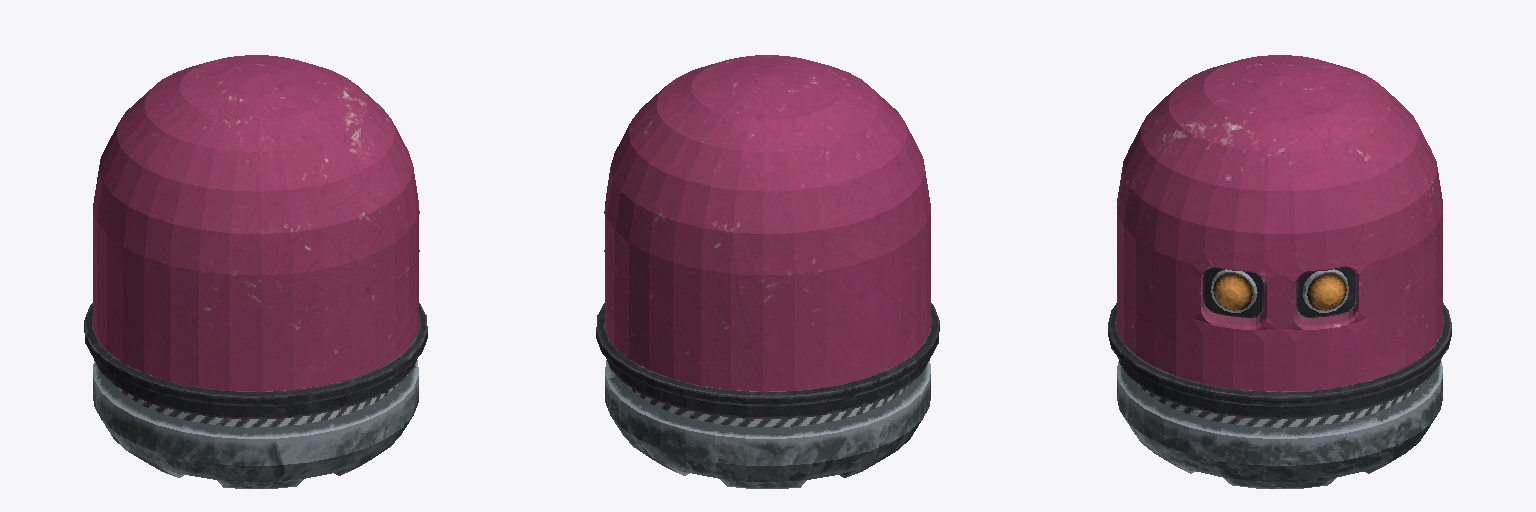
3 views of the same model, side by side, from view 1: azimuth 30°, elevation 25°; view 2: azimuth 150°, elevation 25°; view 3: azimuth 270°, elevation 25° (orthographic).
Parts seen in each view (by area): view 1: Object_479; view 2: Object_479; view 3: Object_479.
Boxes of the visible parts, x1,y1,x2,y2 form: Object_479: [84, 55, 427, 488]; Object_479: [596, 55, 939, 488]; Object_479: [1108, 55, 1451, 488].
Size of the model in its own units: 0.5006 by 0.5779 by 0.5006.
Materials: 1 (1 with a texture image).